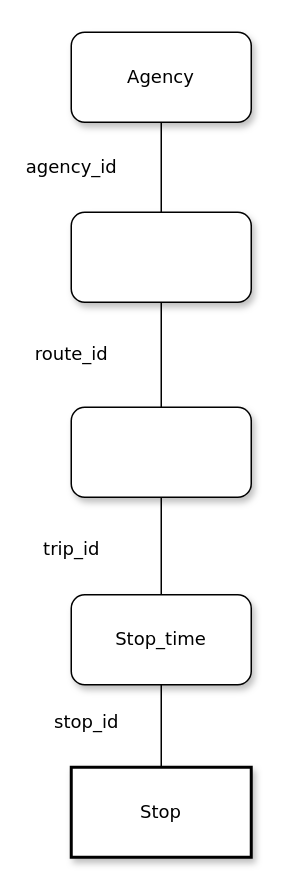
Image size: 288x896. Some labels were removed from this diagram. Each missing label, with the centre of its shape:
"Route" goes at (x=162, y=259).
"Trip" goes at (x=162, y=454).
